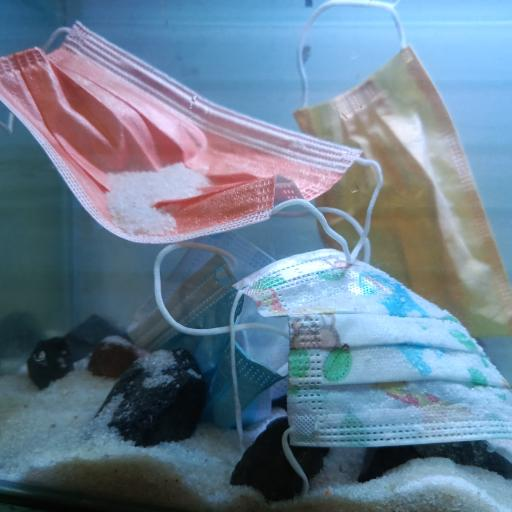mask: (3, 20, 387, 248), (292, 43, 512, 343), (228, 246, 512, 450), (125, 228, 288, 431)
